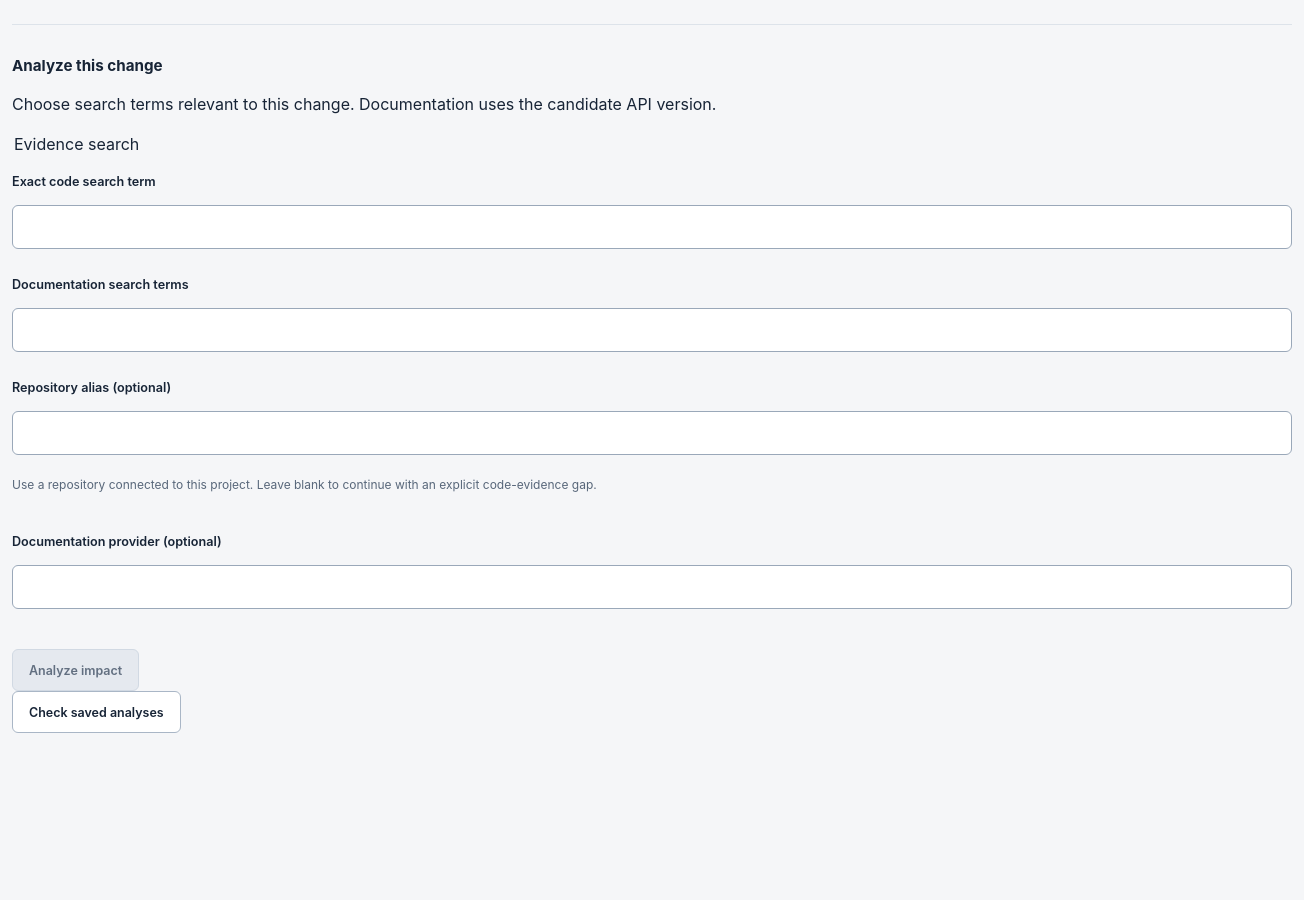
retains inputs for validation errors and never retries automatically
Type "full_name" into the field labelled "Exact code search term" at (652, 227), box [12,205,1292,249]
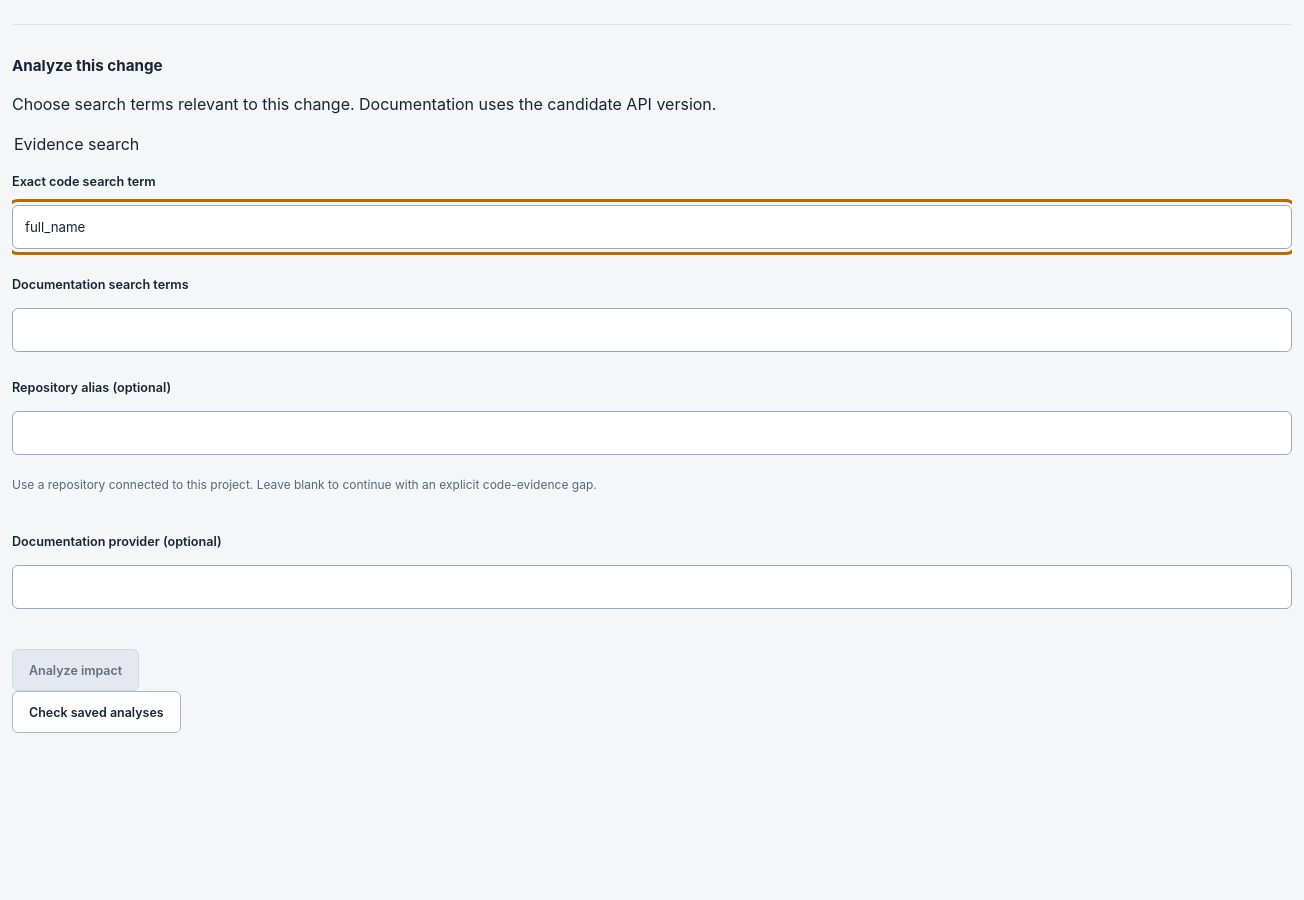
Type "customer migration" into the field labelled "Documentation search terms" at (652, 330), box [12,308,1292,352]
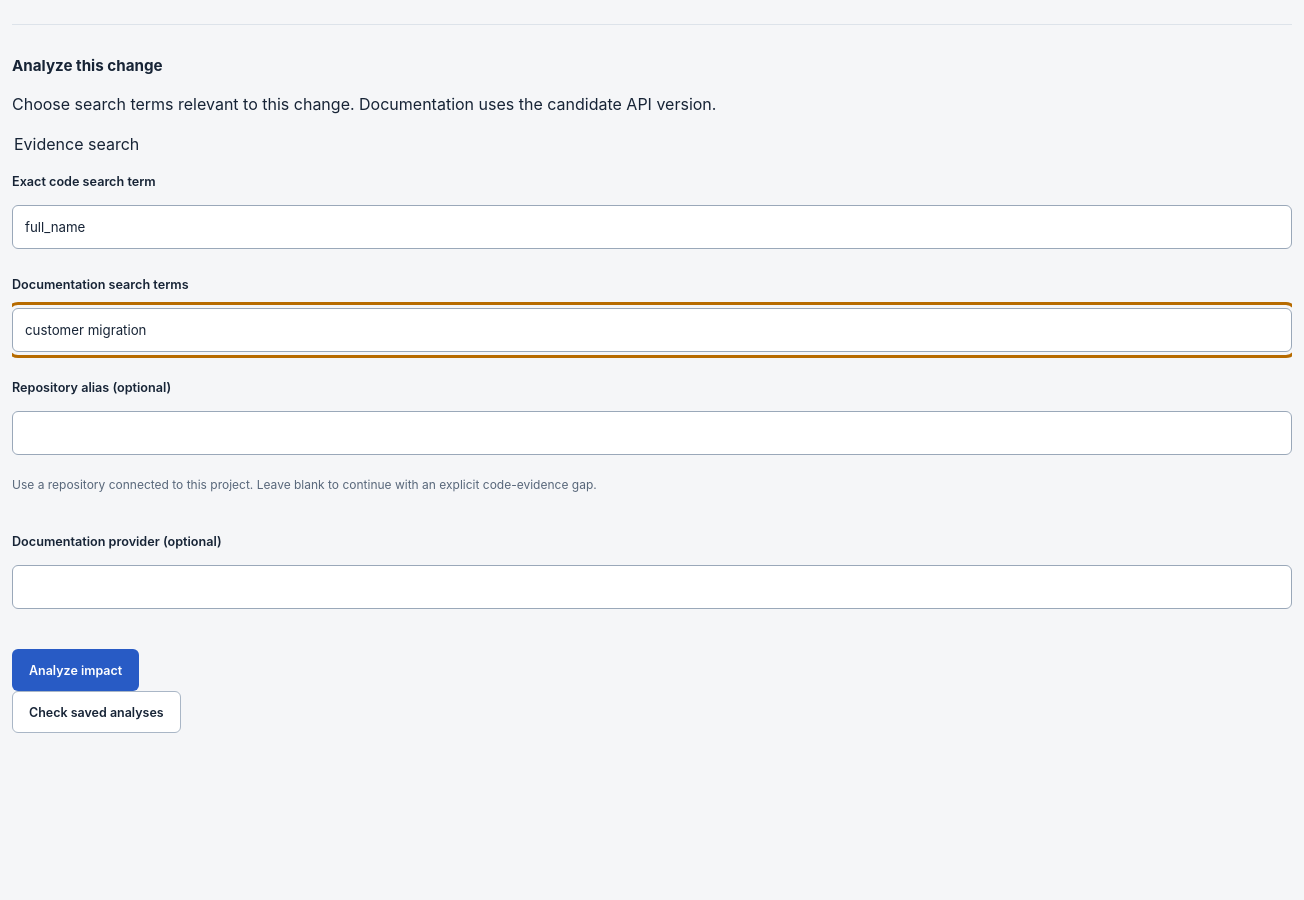
Click the button "Analyze impact" at (76, 670), box [12,649,139,691]
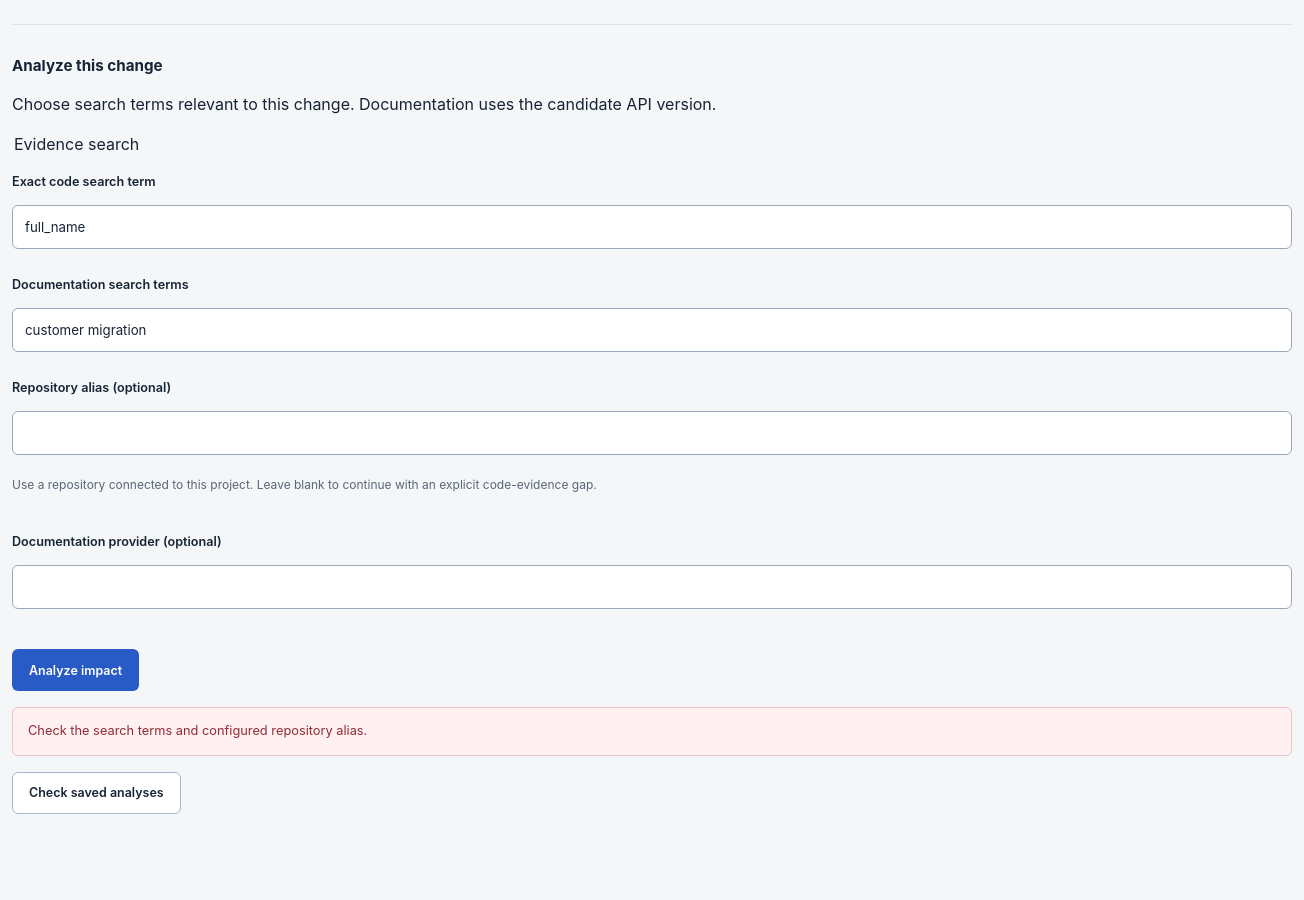
Result: the message "Check the search terms and configured repository alias." is shown at [12,707,1292,756]
